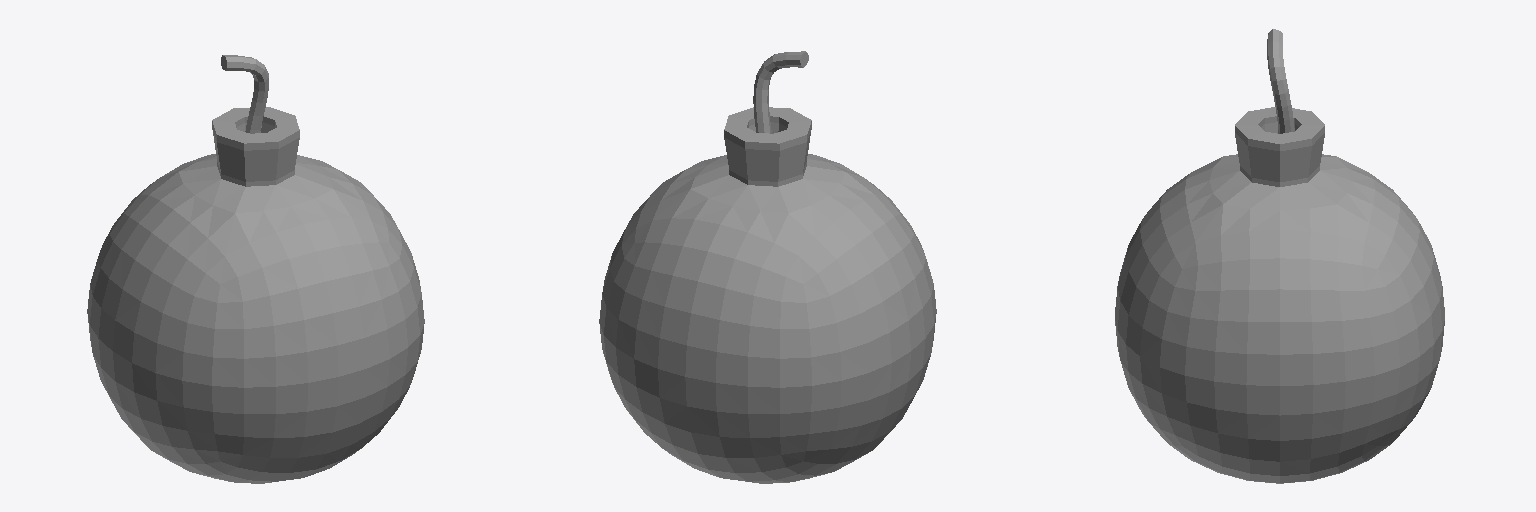
The model's file is Bomb.obj.
The picture shows the model from 3 angles: view 1: azimuth 30°, elevation 25°; view 2: azimuth 150°, elevation 25°; view 3: azimuth 270°, elevation 25°; orthographic projection.
Parts seen in each view (by area): view 1: Bomb; view 2: Bomb; view 3: Bomb.
Boxes of the visible parts, <box> form: Bomb: <box>87,55,424,483</box>; Bomb: <box>599,51,936,483</box>; Bomb: <box>1115,29,1444,483</box>.
Size of the model in its own units: 0.3 by 0.4211 by 0.3.